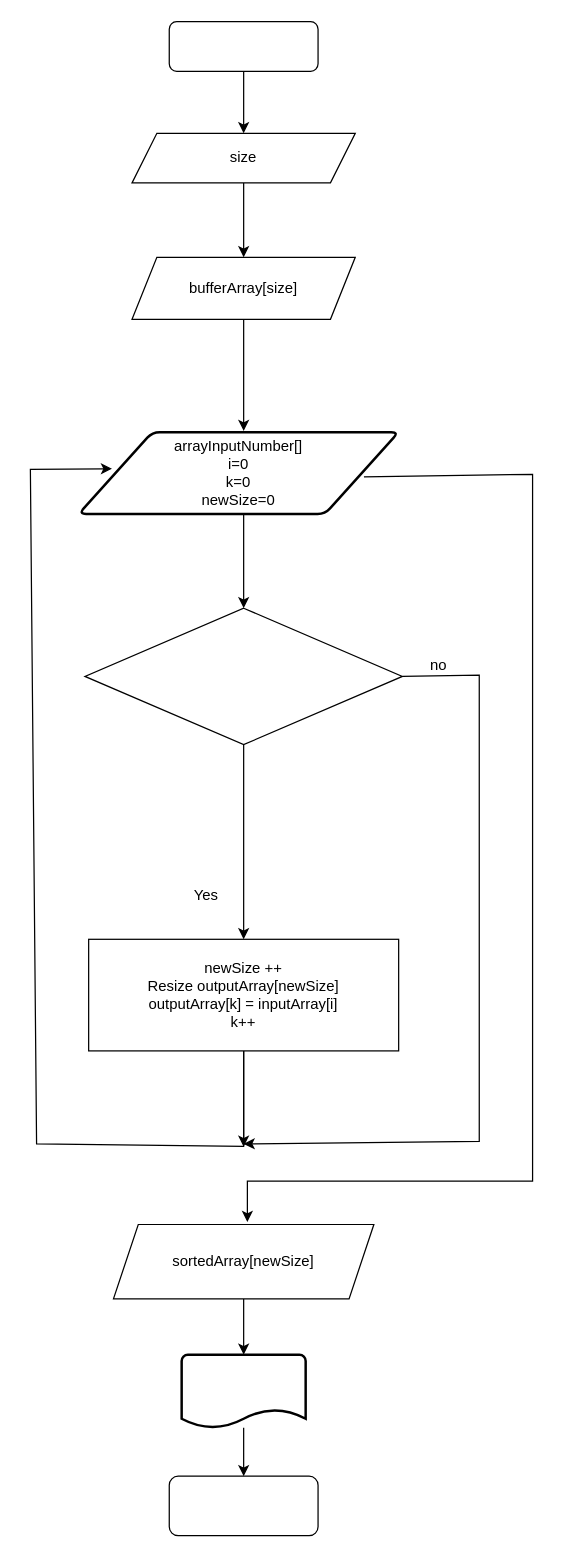
Image size: 564x1557. Some labels were removed from this diagram. Each missing label, with the box of its shape:
Finish: (168, 1475, 318, 1536)
inputArray[i].Length <=3 i=0: (84, 607, 402, 745)
Start: (168, 20, 318, 71)
